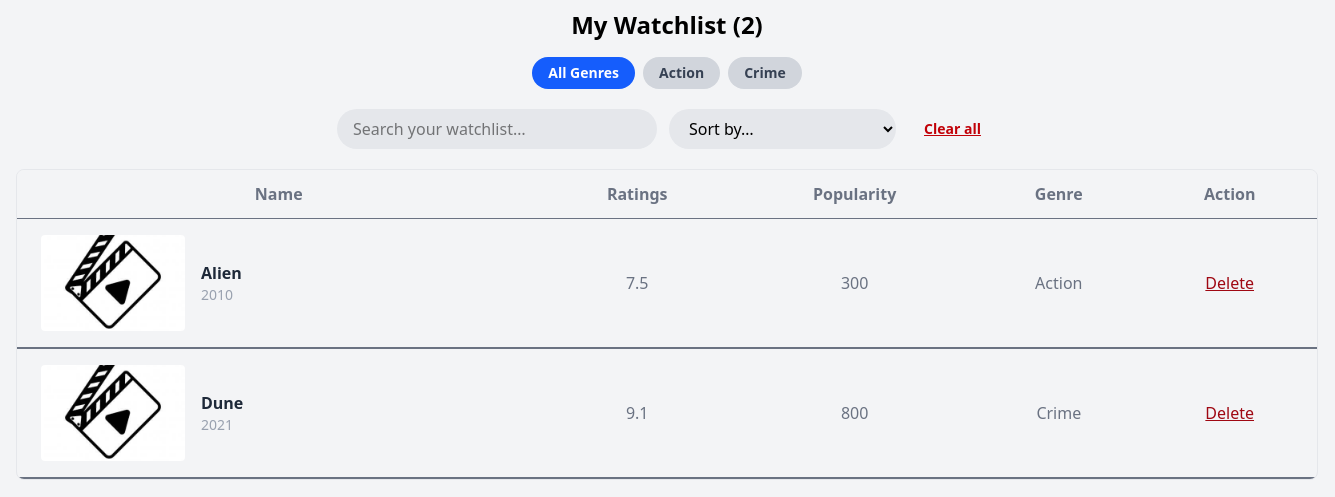
Test: WatchlistPage › filters by search query
Check: the link "Alien" is shown, box [201,262,242,284]
Type "Dune" into the search field named "Search watchlist".
click(497, 129); type("Dune")  # box [337,109,657,149]
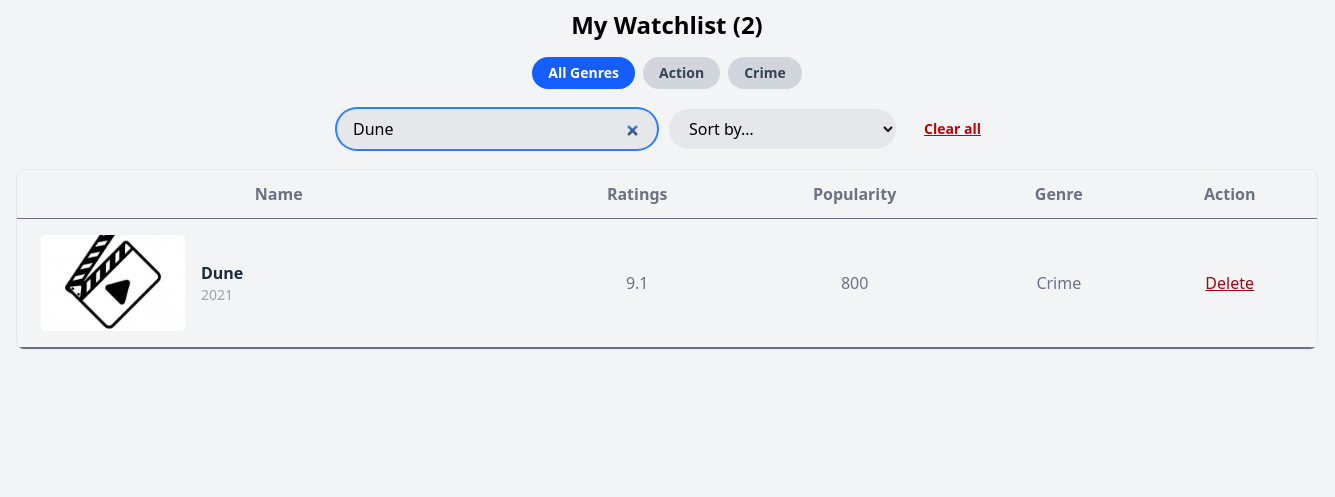
Check: the link "Dune" is shown, box [201,262,243,284]
Check: the link "Alien" is gone
